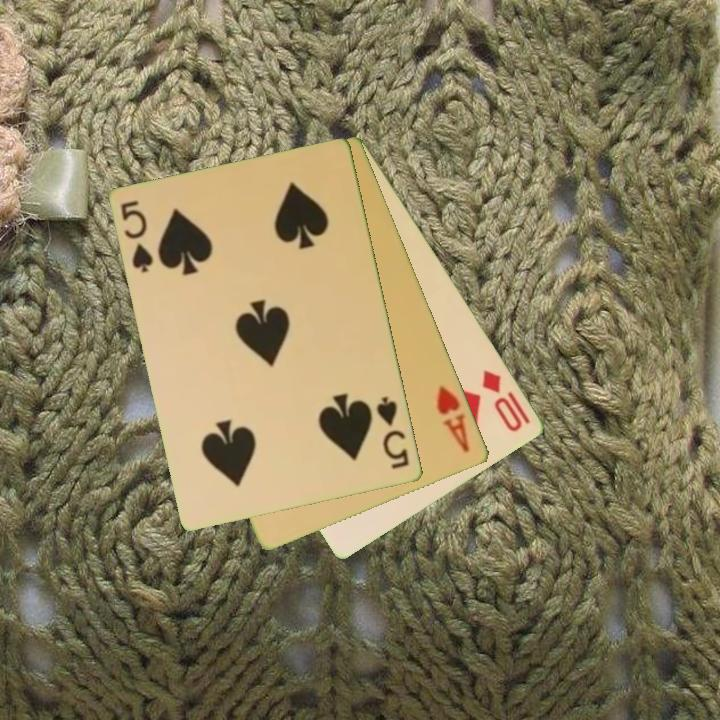10d: (479, 366, 526, 435)
5s: (373, 393, 413, 473), (118, 197, 157, 276)
Ah: (433, 382, 473, 456)
